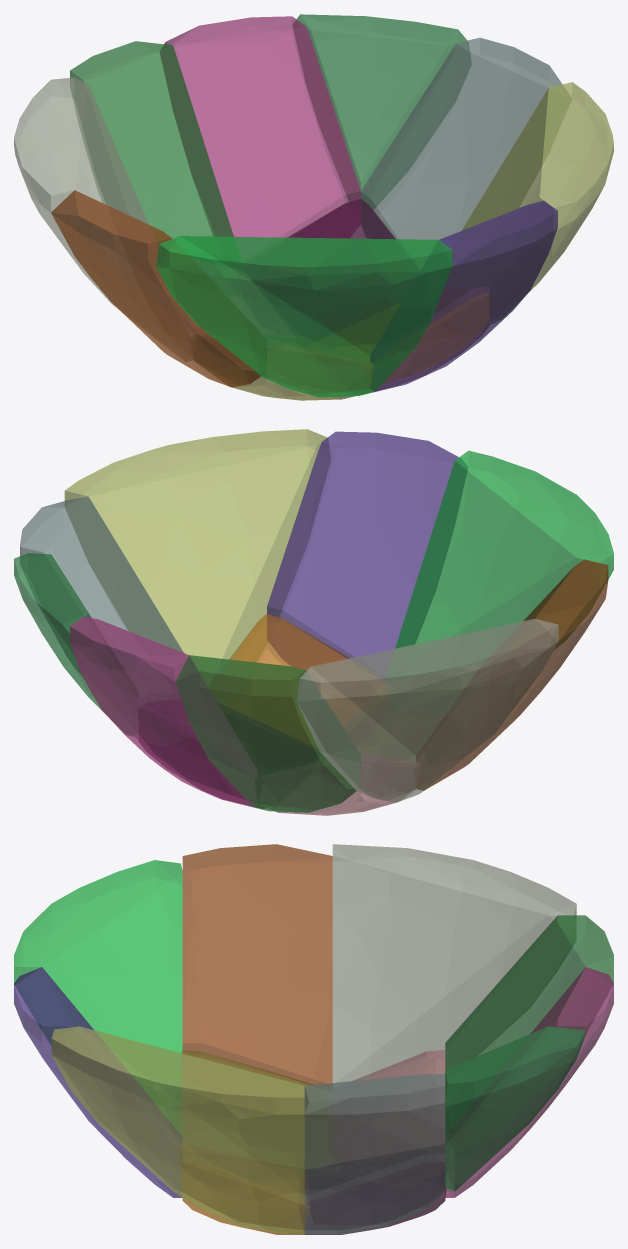
The picture shows the model from 3 angles, top to bottom: view 1: azimuth 30°, elevation 25°; view 2: azimuth 150°, elevation 25°; view 3: azimuth 270°, elevation 25°; orthographic projection. The views are drawn at different scales.
Parts seen in each view (by area): view 1: Shape_IndexedFaceSet.001, Shape_IndexedFaceSet.007, Shape_IndexedFaceSet.010, Shape_IndexedFaceSet.008, Shape_IndexedFaceSet.003, Shape_IndexedFaceSet.002, Shape_IndexedFaceSet, Shape_IndexedFaceSet.005, Shape_IndexedFaceSet.012, Shape_IndexedFaceSet.009, Shape_IndexedFaceSet.006, Shape_IndexedFaceSet.011 (+1 smaller); view 2: Shape_IndexedFaceSet.002, Shape_IndexedFaceSet.012, Shape_IndexedFaceSet.001, Shape_IndexedFaceSet, Shape_IndexedFaceSet.003, Shape_IndexedFaceSet.007, Shape_IndexedFaceSet.010, Shape_IndexedFaceSet.005, Shape_IndexedFaceSet.008, Shape_IndexedFaceSet.011, Shape_IndexedFaceSet.004, Shape_IndexedFaceSet.009 (+1 smaller); view 3: Shape_IndexedFaceSet, Shape_IndexedFaceSet.005, Shape_IndexedFaceSet.002, Shape_IndexedFaceSet.001, Shape_IndexedFaceSet.010, Shape_IndexedFaceSet.003, Shape_IndexedFaceSet.012, Shape_IndexedFaceSet.008, Shape_IndexedFaceSet.007, Shape_IndexedFaceSet.006, Shape_IndexedFaceSet.009, Shape_IndexedFaceSet.004 (+1 smaller).
Part boxes in pixels (<box>): Shape_IndexedFaceSet.001: <box>156,236,452,397</box>; Shape_IndexedFaceSet.007: <box>160,16,360,263</box>; Shape_IndexedFaceSet.010: <box>361,37,571,269</box>; Shape_IndexedFaceSet.008: <box>293,14,471,209</box>; Shape_IndexedFaceSet.003: <box>70,41,241,265</box>; Shape_IndexedFaceSet.002: <box>445,82,613,324</box>; Shape_IndexedFaceSet: <box>14,77,193,361</box>; Shape_IndexedFaceSet.005: <box>51,190,266,387</box>; Shape_IndexedFaceSet.012: <box>371,201,557,391</box>; Shape_IndexedFaceSet.009: <box>260,199,404,340</box>; Shape_IndexedFaceSet.006: <box>190,334,373,400</box>; Shape_IndexedFaceSet.011: <box>335,293,489,392</box>; Shape_IndexedFaceSet.002: <box>64,429,330,686</box>; Shape_IndexedFaceSet.012: <box>267,431,467,678</box>; Shape_IndexedFaceSet.001: <box>386,450,613,682</box>; Shape_IndexedFaceSet: <box>297,619,558,802</box>; Shape_IndexedFaceSet.003: <box>175,655,360,812</box>; Shape_IndexedFaceSet.007: <box>70,616,257,807</box>; Shape_IndexedFaceSet.010: <box>20,496,186,738</box>; Shape_IndexedFaceSet.005: <box>416,559,608,790</box>; Shape_IndexedFaceSet.008: <box>14,553,137,735</box>; Shape_IndexedFaceSet.011: <box>227,614,364,747</box>; Shape_IndexedFaceSet.004: <box>259,755,420,815</box>; Shape_IndexedFaceSet.009: <box>138,708,314,808</box>; Shape_IndexedFaceSet: <box>332,844,576,1088</box>; Shape_IndexedFaceSet.005: <box>182,844,332,1088</box>; Shape_IndexedFaceSet.002: <box>51,1026,304,1234</box>; Shape_IndexedFaceSet.001: <box>14,860,182,1127</box>; Shape_IndexedFaceSet.010: <box>304,1074,445,1234</box>; Shape_IndexedFaceSet.003: <box>445,915,613,1134</box>; Shape_IndexedFaceSet.012: <box>14,967,182,1197</box>; Shape_IndexedFaceSet.008: <box>445,1026,585,1191</box>; Shape_IndexedFaceSet.007: <box>445,967,613,1197</box>; Shape_IndexedFaceSet.006: <box>182,1050,329,1169</box>; Shape_IndexedFaceSet.009: <box>304,1160,446,1234</box>; Shape_IndexedFaceSet.004: <box>337,1050,445,1163</box>.
Bounding box in the file's own units: 0.6907 × 0.2806 × 0.6907.
